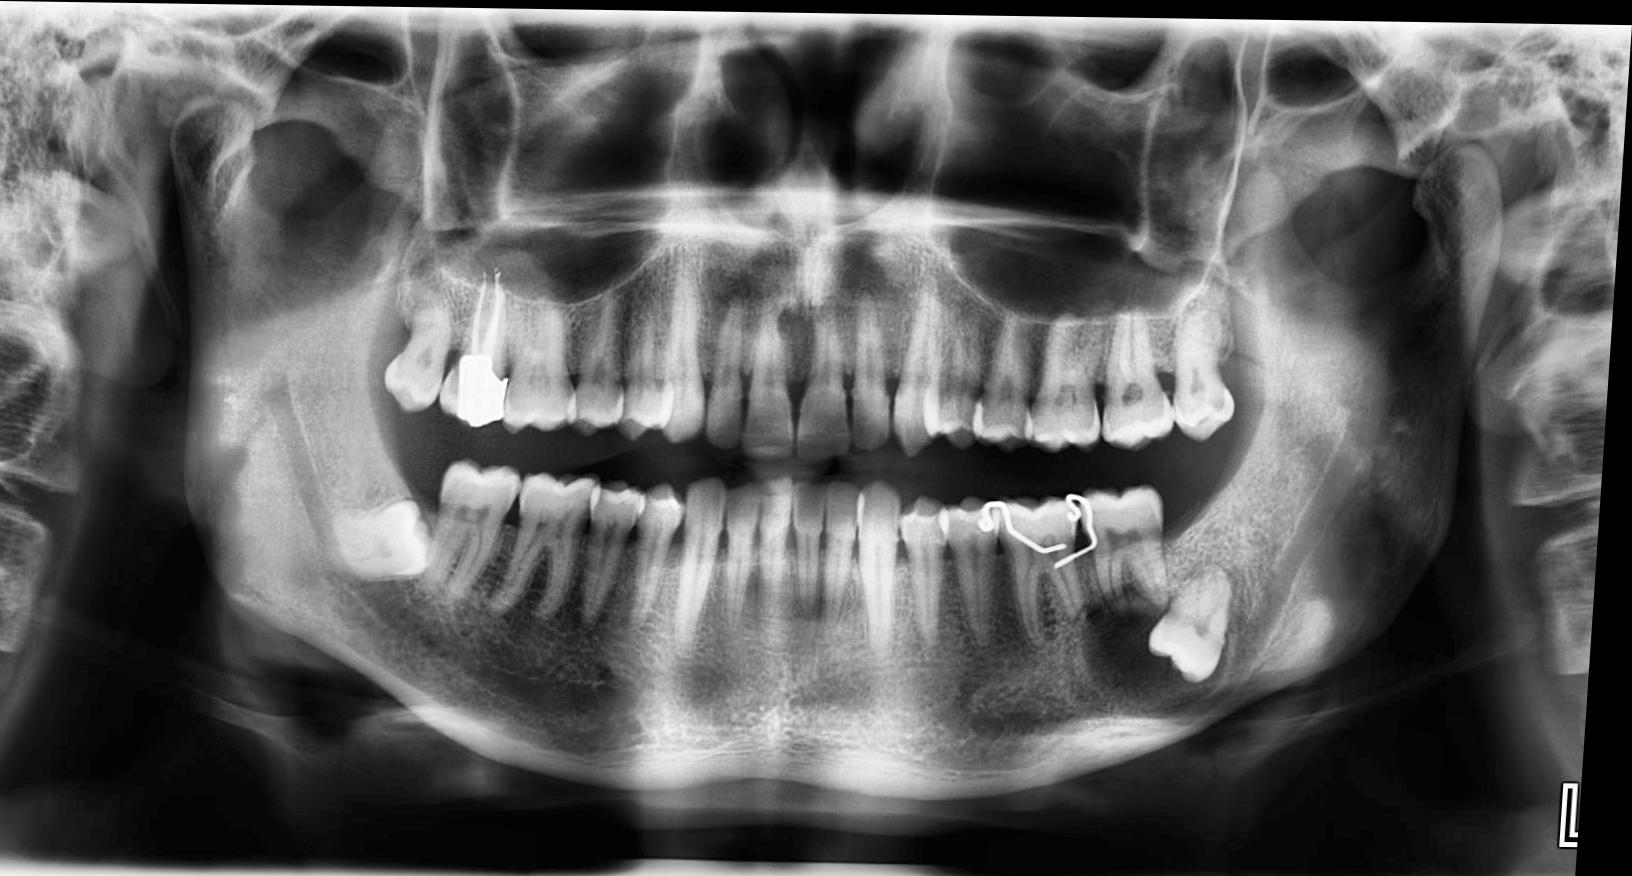dentigeroz: (1085, 582, 1244, 712)
